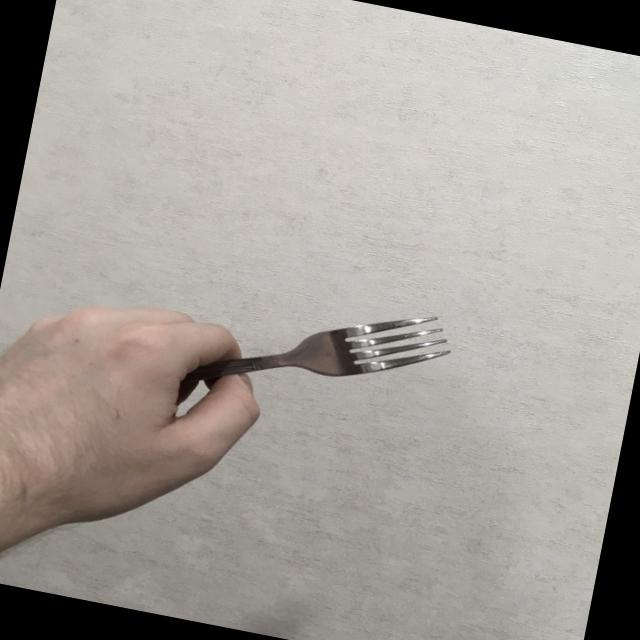fork: (128, 261, 458, 450)
